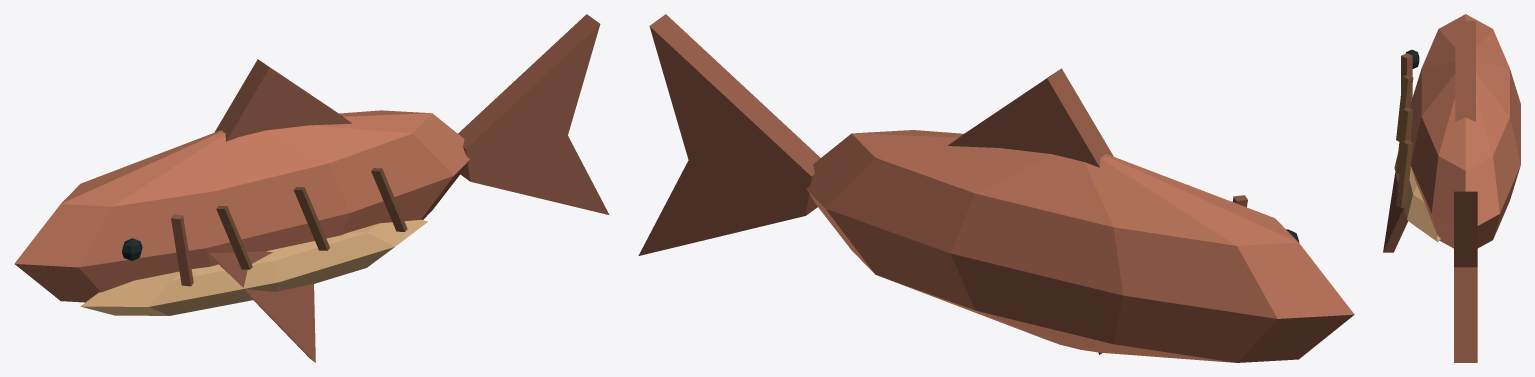
The model's file is salmon.glb.
3 views of the same model, side by side, from view 1: azimuth 30°, elevation 25°; view 2: azimuth 150°, elevation 25°; view 3: azimuth 270°, elevation 25° (orthographic). The views are drawn at different scales.
Visible parts, largest first — view 1: salmon; view 2: salmon; view 3: salmon.
Boxes of the visible parts, x1=… form: salmon: x1=14, y1=14, x2=609, y2=362; salmon: x1=638, y1=14, x2=1354, y2=362; salmon: x1=1383, y1=14, x2=1520, y2=362.
Bounding box in the file's own units: 1 × 0.4312 × 0.2345.
